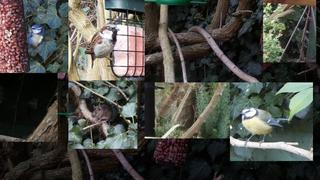blue tit: (239, 106, 289, 148), (24, 24, 44, 54)
mouse: (91, 104, 113, 125)
sparrow: (84, 24, 121, 69)
